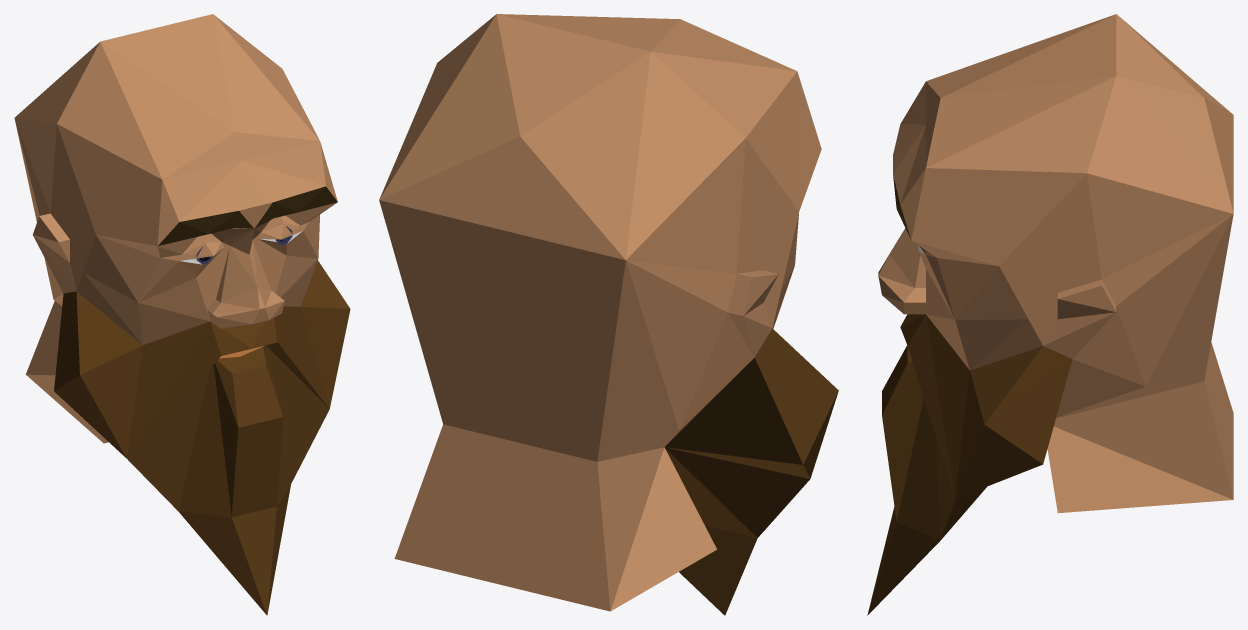
The model's file is model_0_npc_head.obj.
The picture shows the model from 3 angles, left to right: view 1: azimuth 30°, elevation 25°; view 2: azimuth 150°, elevation 25°; view 3: azimuth 270°, elevation 25°; orthographic projection. The views are drawn at different scales.
Parts seen in each view (by area): view 1: 0; view 2: 0; view 3: 0.
Boxes of the visible parts, x1=… form: 0: x1=14, y1=14, x2=350, y2=615; 0: x1=379, y1=14, x2=838, y2=615; 0: x1=867, y1=14, x2=1233, y2=615.
Bounding box in the file's own units: 96 × 172 × 100.
